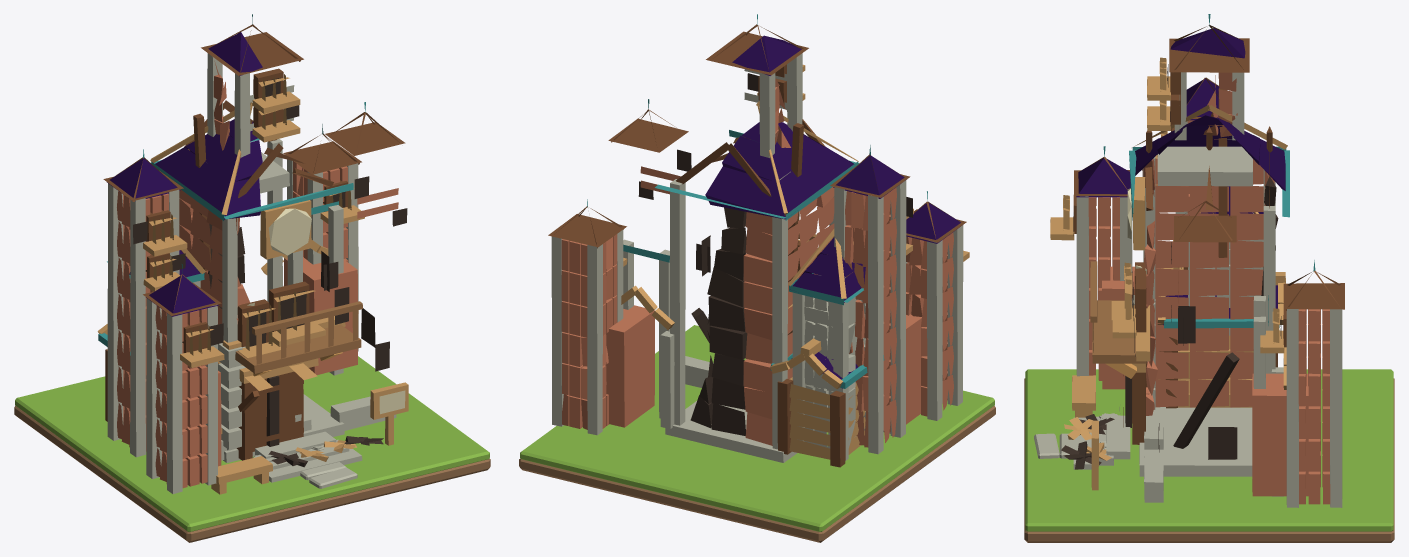
The model's file is town_hall_l14_damaged_LOD2.glb.
3 renders of one model, left to right at view 1: azimuth 30°, elevation 25°; view 2: azimuth 150°, elevation 25°; view 3: azimuth 270°, elevation 25°, orthographic. The views are drawn at different scales.
Parts seen in each view (by area): view 1: town_hall_l14_damaged_foundation.001, town_hall_l14_damaged_grass_tile.001, town_hall_l14_damaged_earth_tile.001, town_hall_l14_damaged_path_stone.005; view 2: town_hall_l14_damaged_foundation.001, town_hall_l14_damaged_grass_tile.001, town_hall_l14_damaged_earth_tile.001; view 3: town_hall_l14_damaged_foundation.001, town_hall_l14_damaged_grass_tile.001, town_hall_l14_damaged_earth_tile.001, town_hall_l14_damaged_path_stone.005.
Part boxes in pixels (x1,y1,x2,y2): town_hall_l14_damaged_foundation.001: (97,14,408,494); town_hall_l14_damaged_grass_tile.001: (15,356,489,531); town_hall_l14_damaged_earth_tile.001: (14,405,490,542); town_hall_l14_damaged_path_stone.005: (309,467,357,488); town_hall_l14_damaged_foundation.001: (548,14,969,467); town_hall_l14_damaged_grass_tile.001: (520,325,994,531); town_hall_l14_damaged_earth_tile.001: (519,405,995,542); town_hall_l14_damaged_foundation.001: (1050,14,1344,507); town_hall_l14_damaged_grass_tile.001: (1025,369,1393,531); town_hall_l14_damaged_earth_tile.001: (1024,378,1394,542); town_hall_l14_damaged_path_stone.005: (1034,433,1059,458).
Size of the model in its own units: 3.6 by 4.85 by 3.6.
